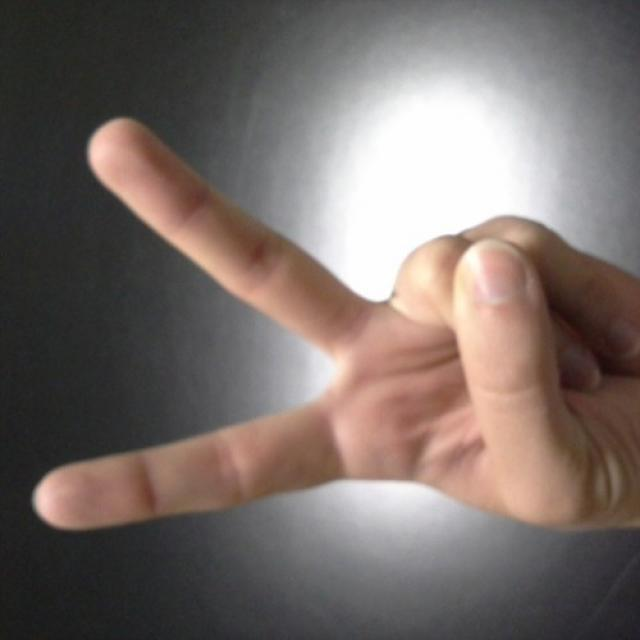scissors: (39, 114, 637, 531)
